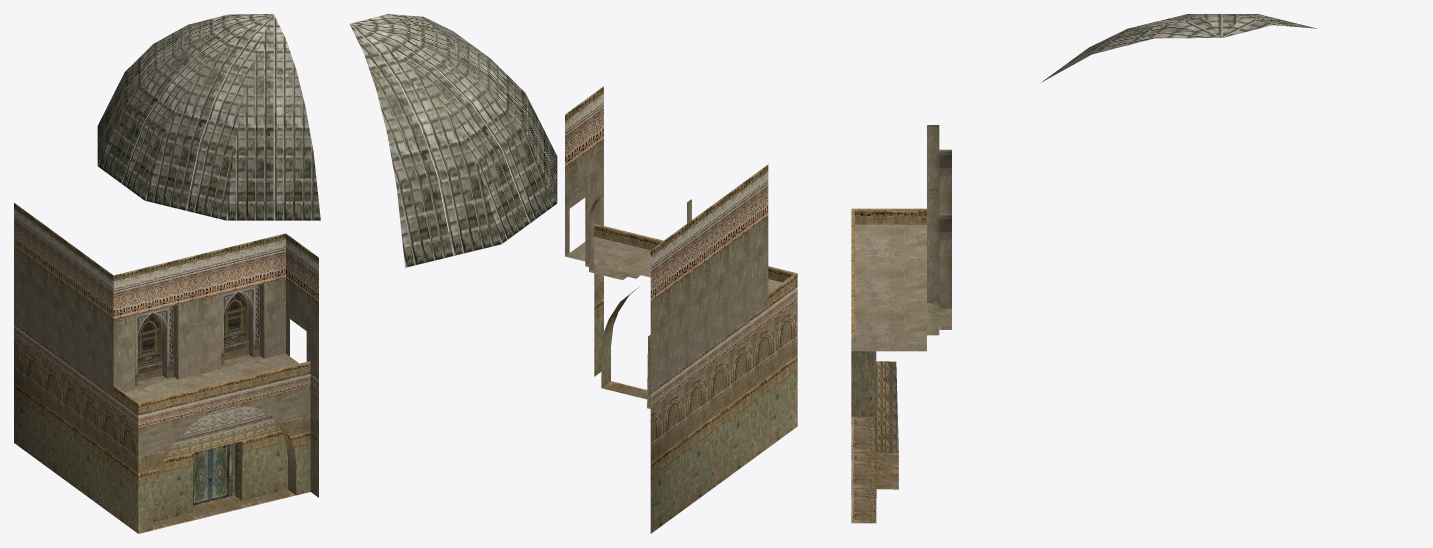
The model's file is M7Z2_WallSection2A.glb.
The picture shows the model from 3 angles, left to right: view 1: azimuth 30°, elevation 25°; view 2: azimuth 150°, elevation 25°; view 3: azimuth 270°, elevation 25°; orthographic projection. The views are drawn at different scales.
Visible parts, largest first — view 1: M7Z2_WALLSECTION2A; view 2: M7Z2_WALLSECTION2A; view 3: M7Z2_WALLSECTION2A.
Part boxes in pixels (x1,y1,x2,y2): M7Z2_WALLSECTION2A: (14, 14, 320, 533); M7Z2_WALLSECTION2A: (349, 14, 797, 533); M7Z2_WALLSECTION2A: (851, 14, 1316, 523).
Size of the model in its own units: 17.93 by 24.5 by 23.52.
7 materials, 7 textured.
